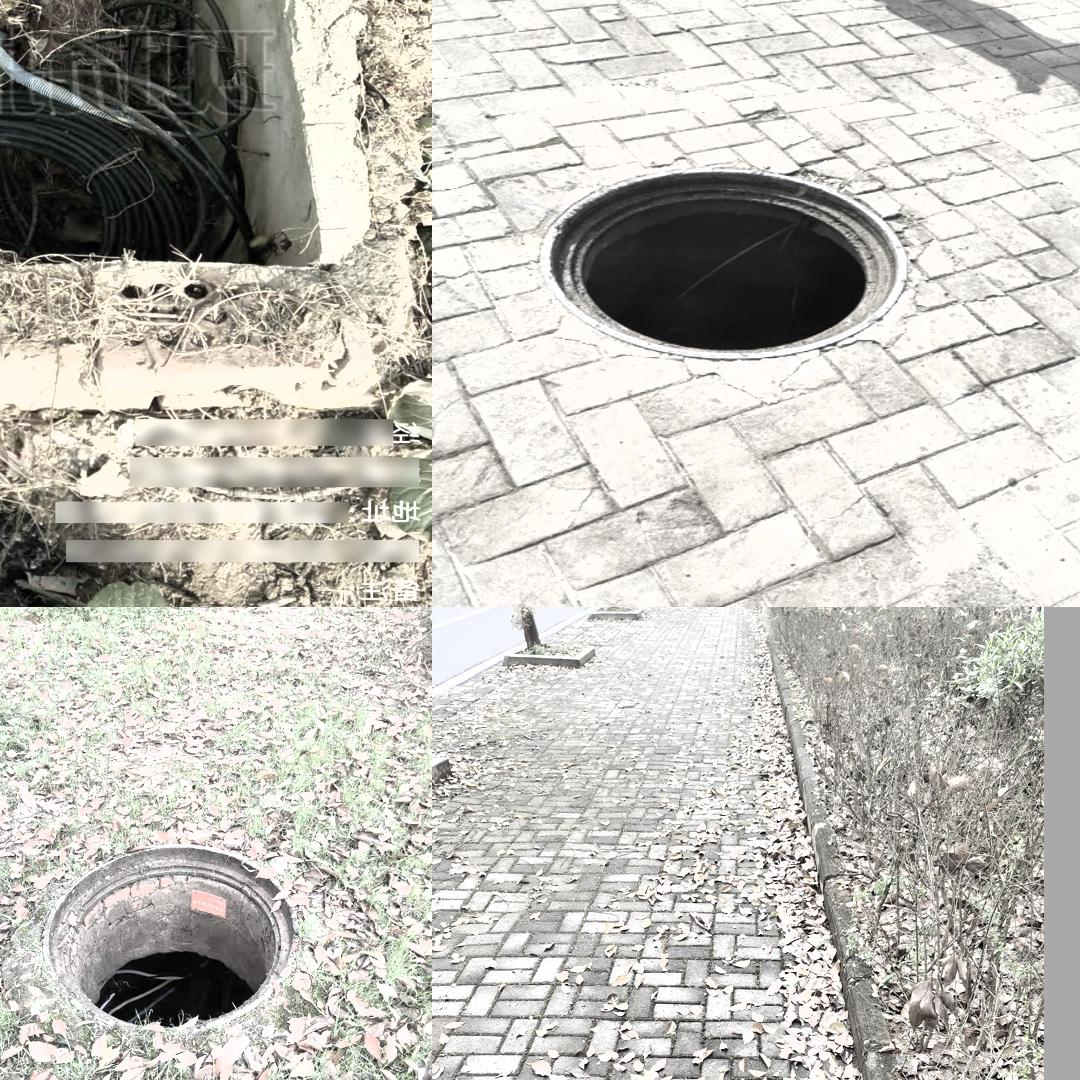lose: (0, 0, 324, 273), (531, 161, 930, 361), (42, 843, 301, 1034)
